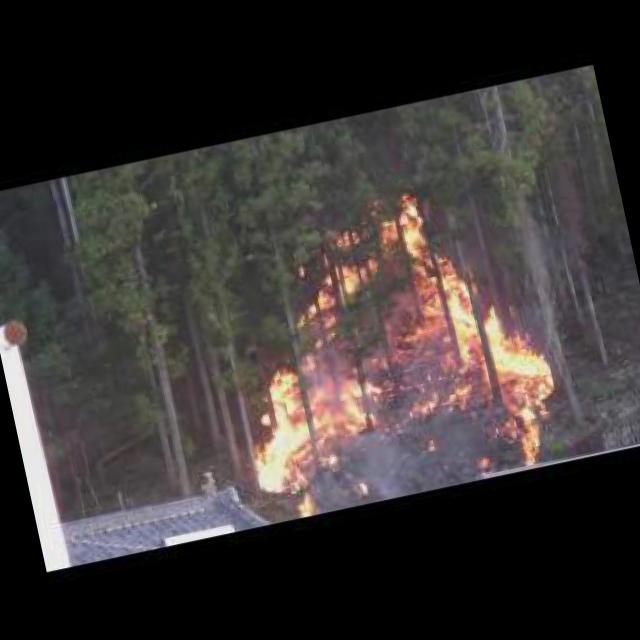fire: (394, 171, 571, 481), (237, 338, 406, 497), (274, 201, 415, 350), (406, 391, 442, 418), (294, 490, 320, 518)
